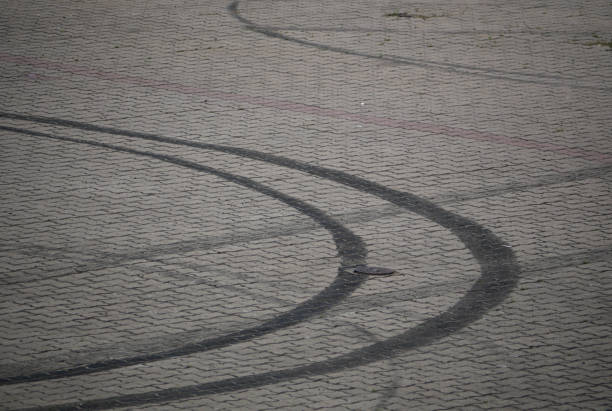vehicle_track: (0, 113, 519, 409), (0, 126, 366, 384), (228, 0, 609, 90)
